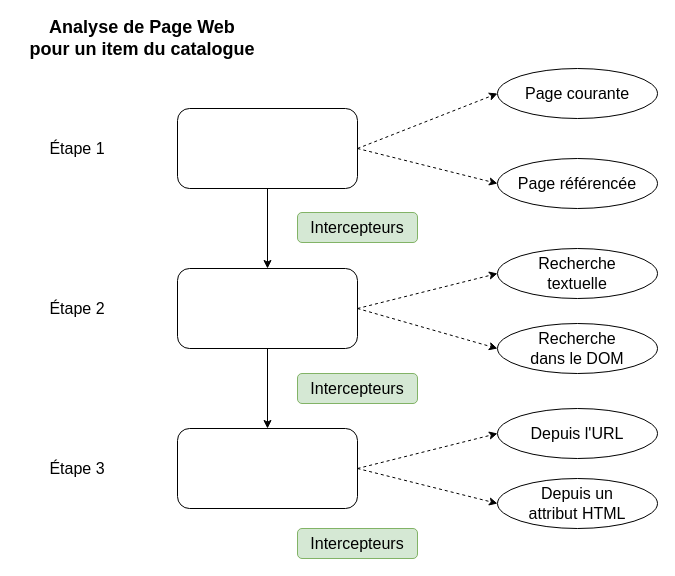
Image size: 675x576. Some labels were removed from this diagram. The centre of each missing label's shape, as x and y in pixels:
Où chercher les liens de téléchargement ?: (x=267, y=148)
Que télécharger ? Trouver les liens de téléchargement.: (x=267, y=308)
Sous quels noms sauvegarder ?: (x=267, y=468)
